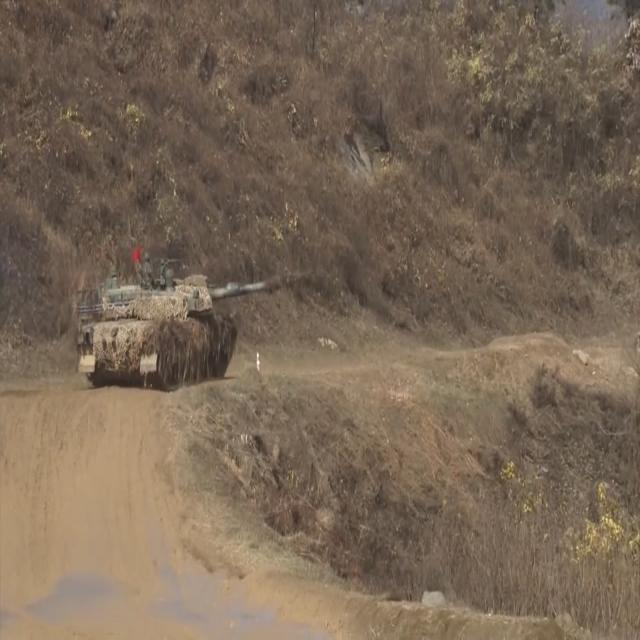korea tank: (73, 255, 321, 396)
